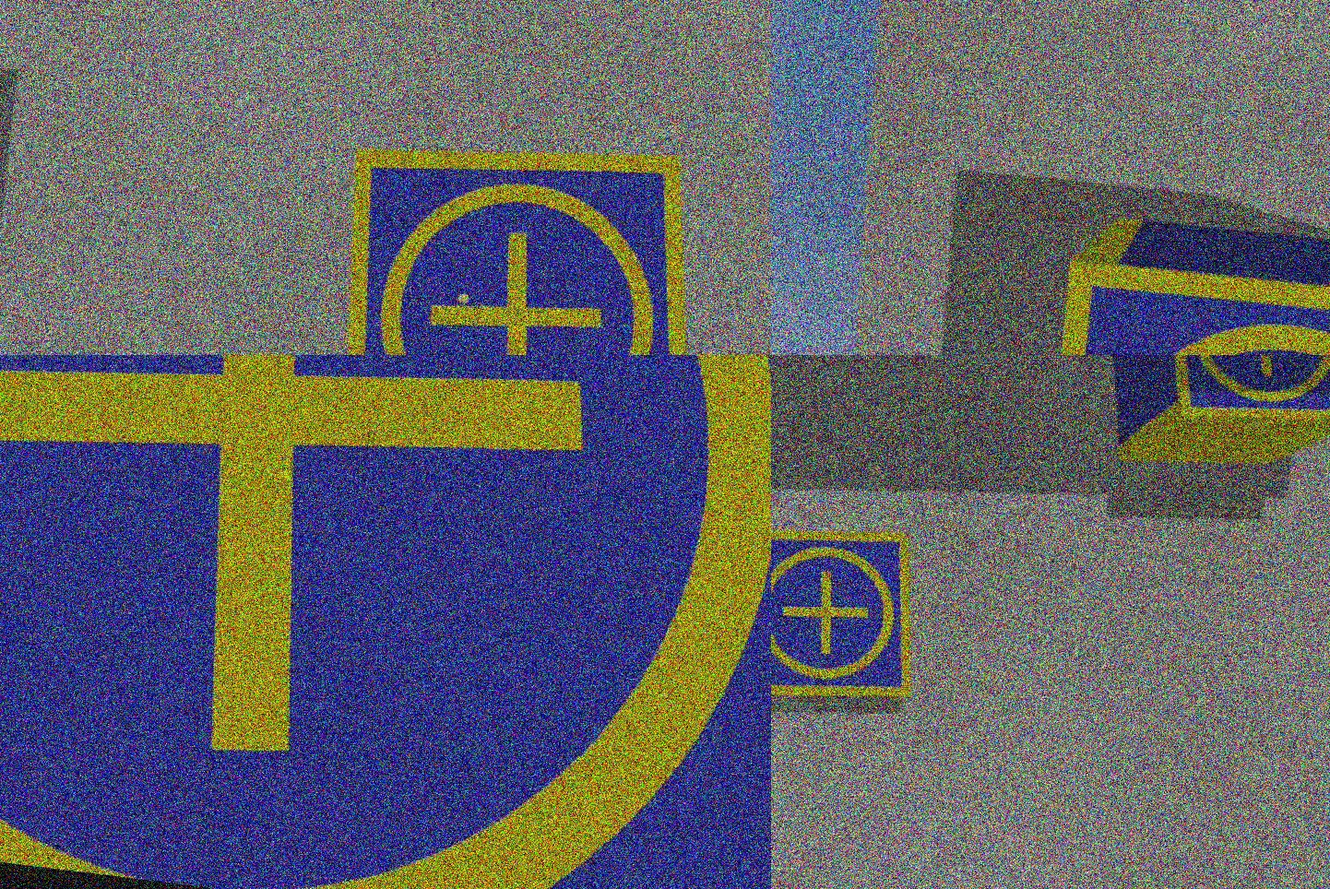small_base: (1, 356, 771, 889), (314, 118, 733, 356), (771, 508, 935, 723), (1141, 356, 1330, 439)
